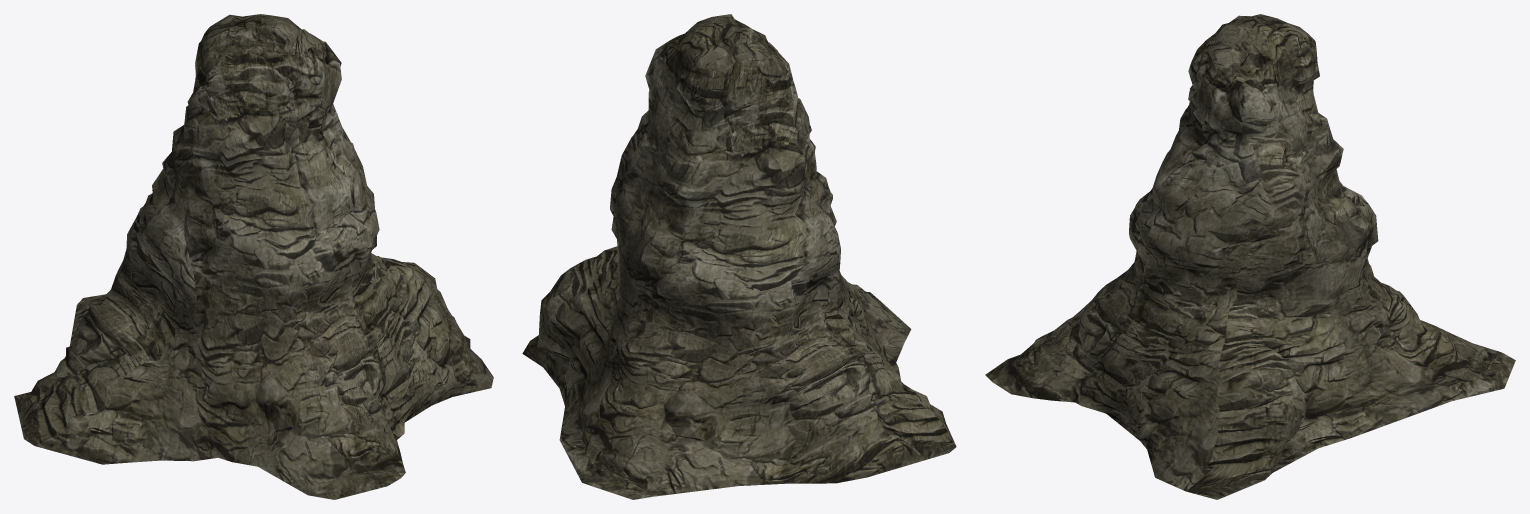
Rendered from MEP_Cliff_05.fbx.
3 renders of one model, left to right at view 1: azimuth 30°, elevation 25°; view 2: azimuth 150°, elevation 25°; view 3: azimuth 270°, elevation 25°, orthographic.
Visible parts, largest first — view 1: MEP_Desert_Cliff_05_N; view 2: MEP_Desert_Cliff_05_N; view 3: MEP_Desert_Cliff_05_N.
Boxes of the visible parts, bbox=[...] form: MEP_Desert_Cliff_05_N: bbox=[14, 14, 493, 499]; MEP_Desert_Cliff_05_N: bbox=[522, 14, 956, 499]; MEP_Desert_Cliff_05_N: bbox=[985, 14, 1515, 499].
Size of what is drawn, in the model's own units: 2150 by 1807 by 2295.
1 material, 1 textured.
